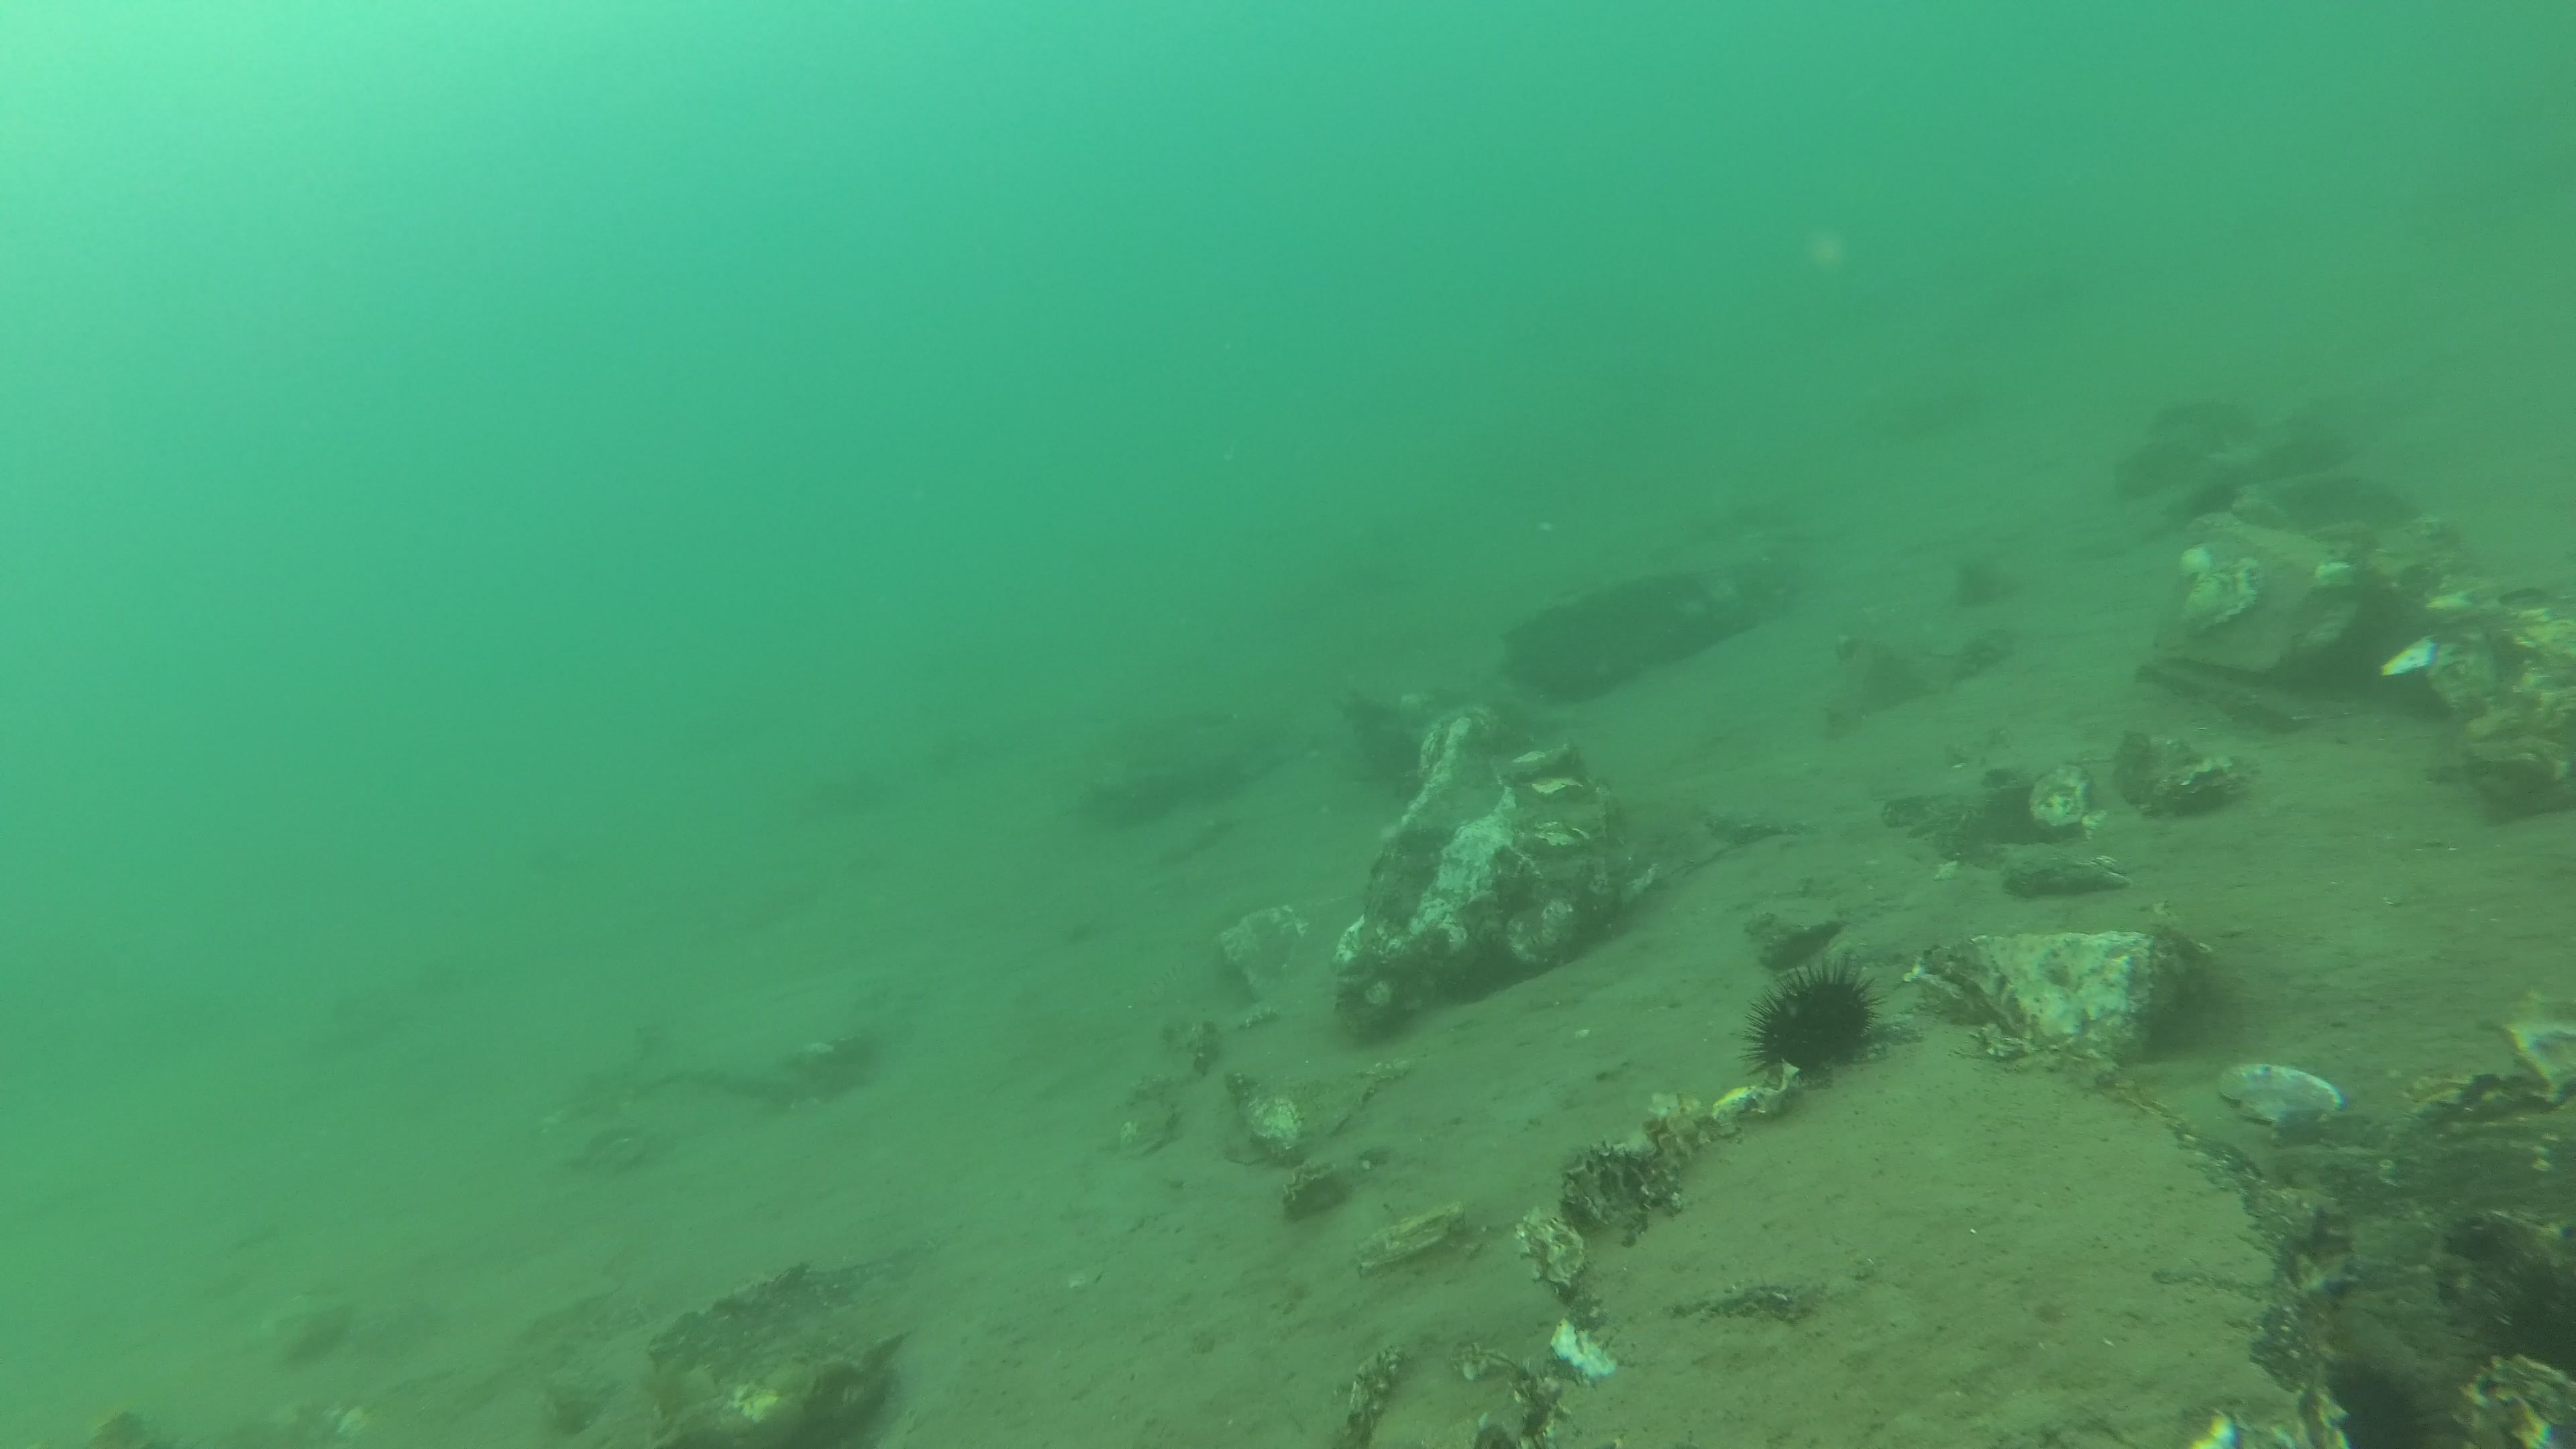echinus: (1734, 950, 1895, 1093), (1497, 612, 1622, 708), (1978, 777, 2088, 849), (1950, 556, 2013, 609), (2185, 479, 2242, 525)
scallop: (2210, 1060, 2351, 1141)
